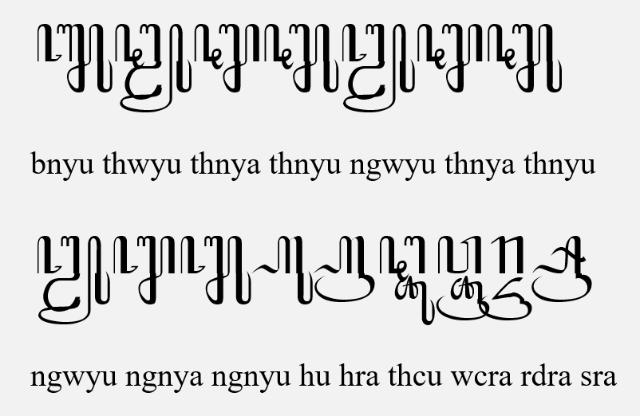_cr: (436, 275, 489, 321)
_cu: (394, 276, 436, 326)
_dr: (479, 276, 533, 322)
_hr: (312, 236, 376, 304)
_hu: (251, 236, 313, 306)
_sr: (530, 236, 592, 302)
bnyu: (36, 23, 114, 93)
ngnya: (112, 235, 176, 306)
ngnyu: (181, 235, 253, 306)
ngwyu: (36, 235, 110, 326), (341, 23, 415, 113)
r: (490, 236, 524, 276)
th: (379, 236, 435, 282)
thny: (416, 23, 484, 94), (193, 22, 260, 94)
thnyu: (264, 22, 340, 94), (486, 23, 564, 93)
thwyu: (114, 23, 192, 113)
w: (436, 236, 482, 274)
